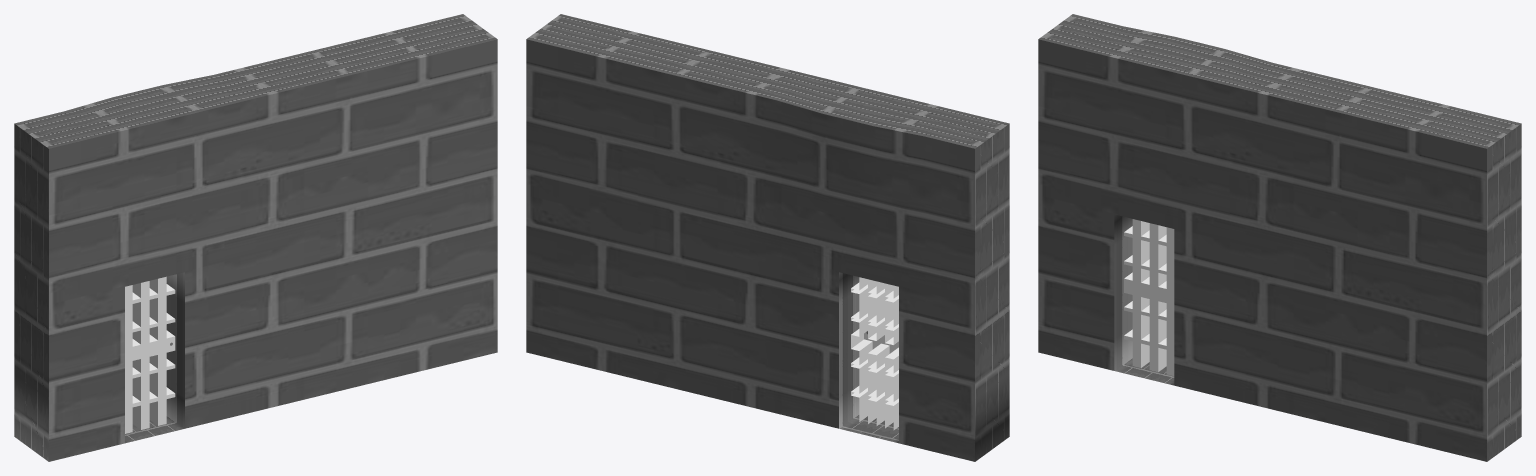
Rendered from PuertaParedesLobby.fbx.
3 renders of one model, left to right at view 1: azimuth 30°, elevation 25°; view 2: azimuth 150°, elevation 25°; view 3: azimuth 330°, elevation 25°, orthographic.
Visible parts, largest first — view 1: paredconpuerta; view 2: paredconpuerta; view 3: paredconpuerta.
Boxes of the visible parts, box(x1,y1,x2,y2) form: paredconpuerta: box(14, 14, 497, 461); paredconpuerta: box(526, 14, 1009, 461); paredconpuerta: box(1038, 14, 1521, 461).
Size of the model in its own units: 15 by 10 by 2.13.
